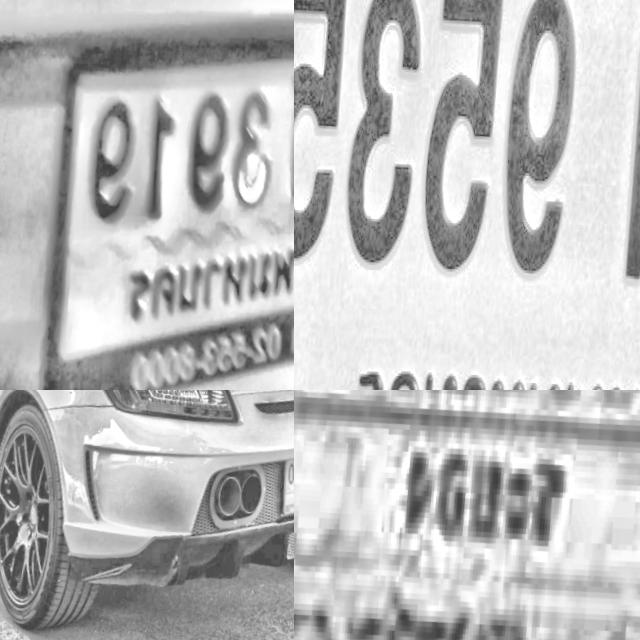license-plate: (294, 0, 640, 390), (294, 390, 640, 640), (52, 60, 294, 359), (272, 447, 294, 530)
